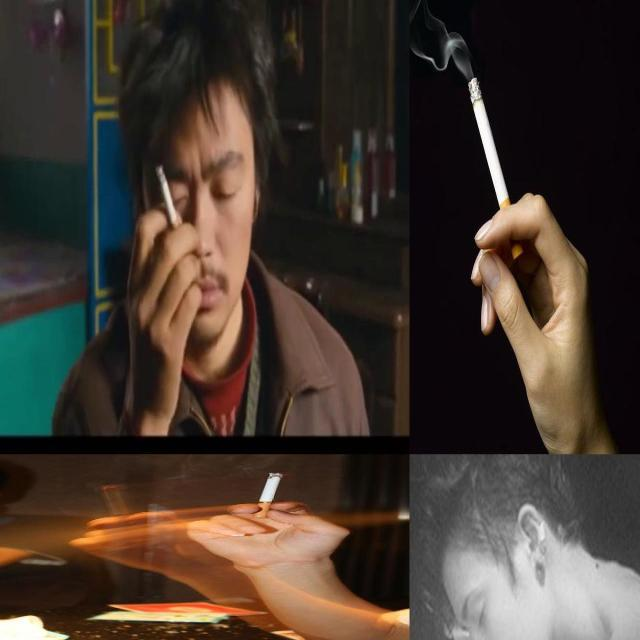smoking: (466, 74, 524, 264), (248, 470, 292, 518), (155, 162, 181, 233)
